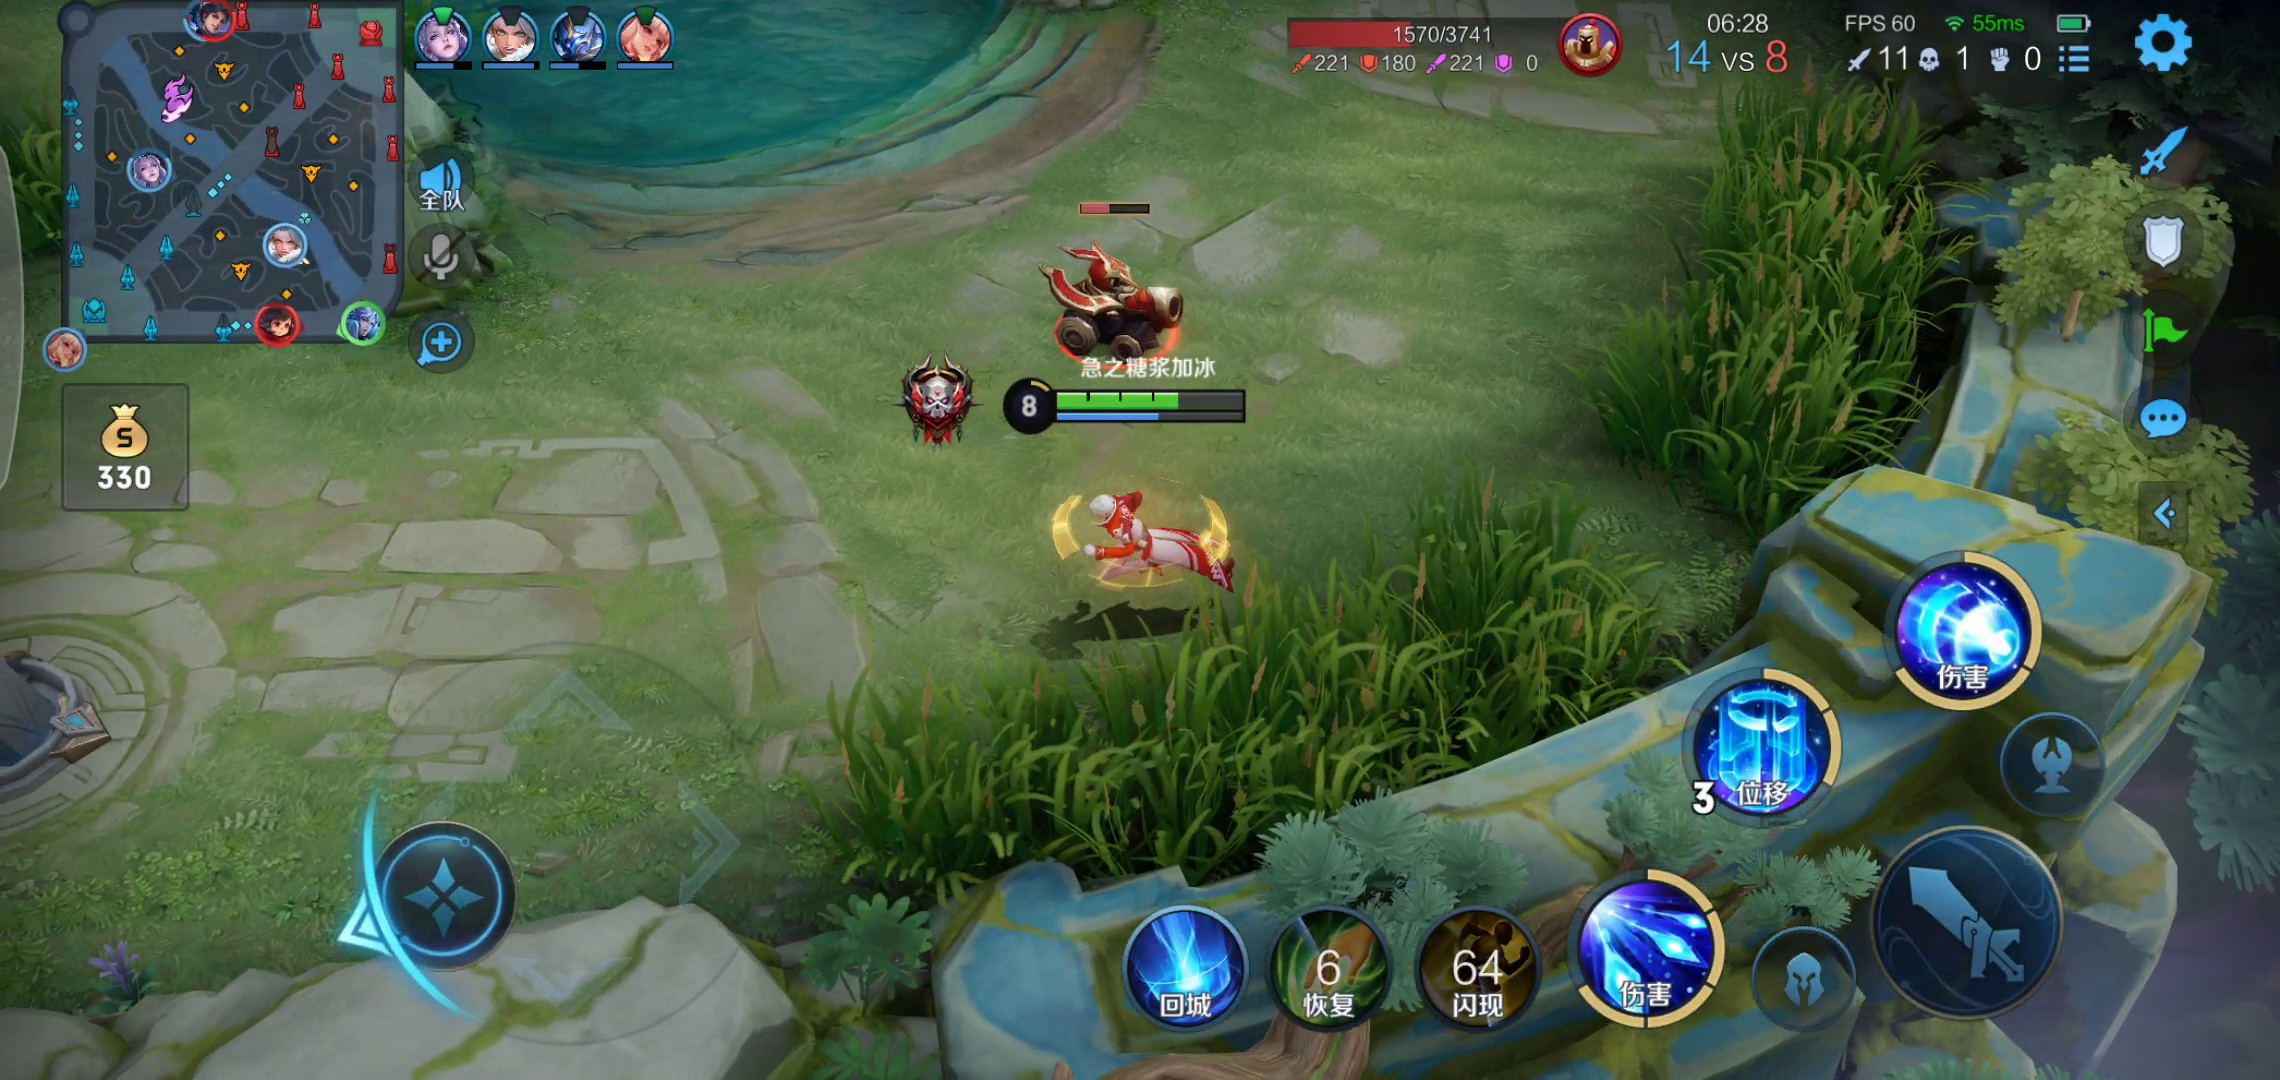grass: (839, 509, 1663, 879), (1613, 81, 1948, 507)
hero: (1043, 483, 1259, 618)
soldier: (1027, 235, 1198, 362)
